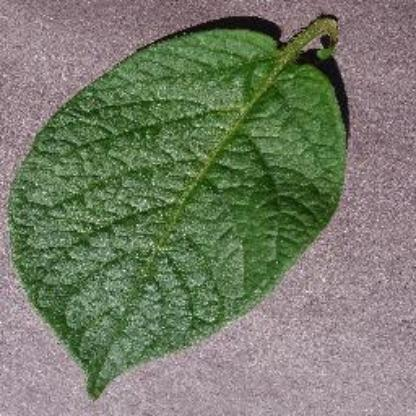Healthy-plant: (10, 16, 352, 392)
